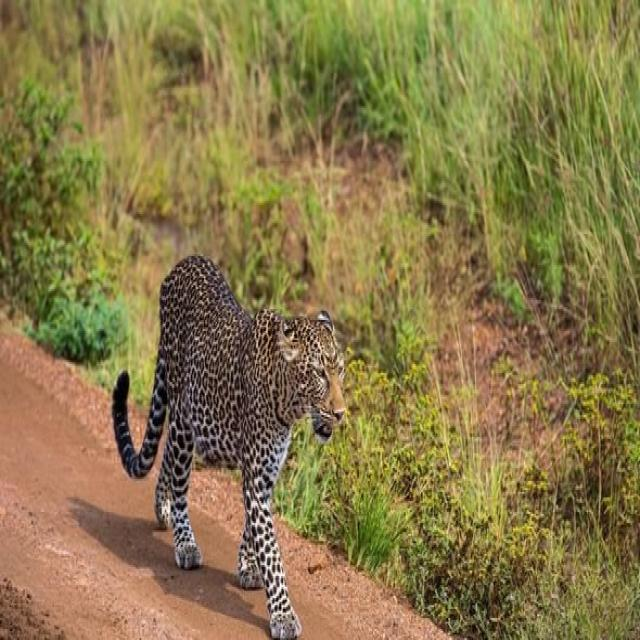Jaguar: (112, 252, 349, 640)
